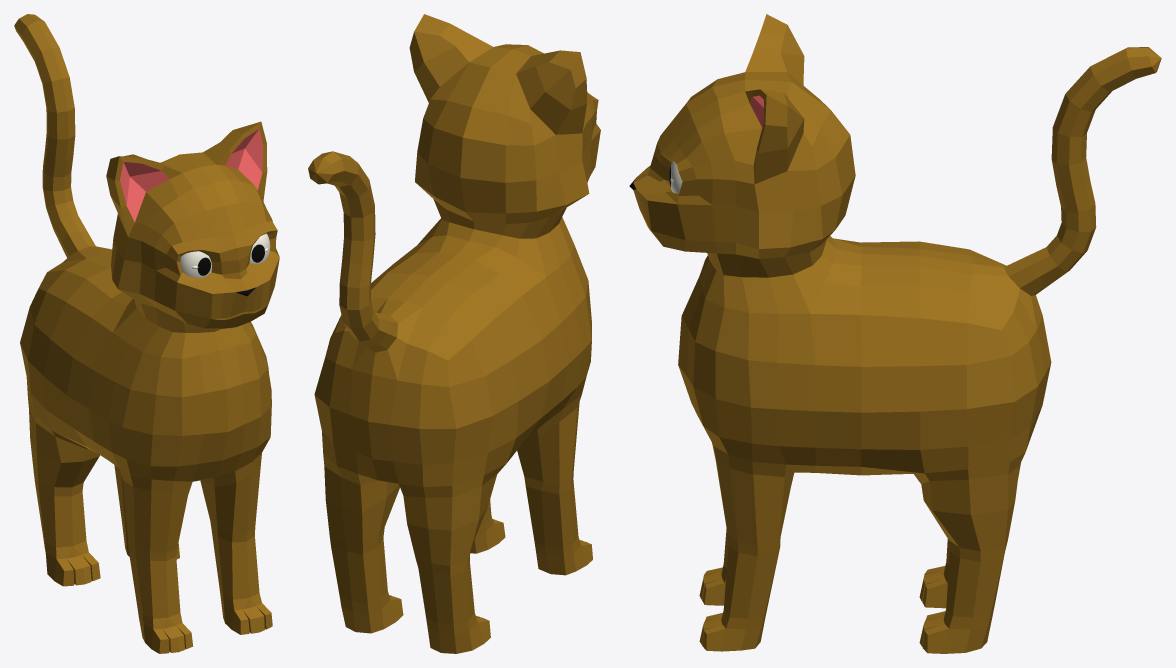
Rendered from cat2.fbx.
3 renders of one model, left to right at view 1: azimuth 30°, elevation 25°; view 2: azimuth 150°, elevation 25°; view 3: azimuth 270°, elevation 25°, orthographic. The views are drawn at different scales.
Visible parts, largest first — view 1: Box003, Sphere004; view 2: Box003; view 3: Box003.
Boxes of the visible parts, x1,y1,x2,y2 form: Box003: (14,14,279,653); Sphere004: (180,233,270,278); Box003: (308,14,600,653); Box003: (629,14,1161,653).
Size of the model in its own units: 39.17 by 110 by 92.68.
